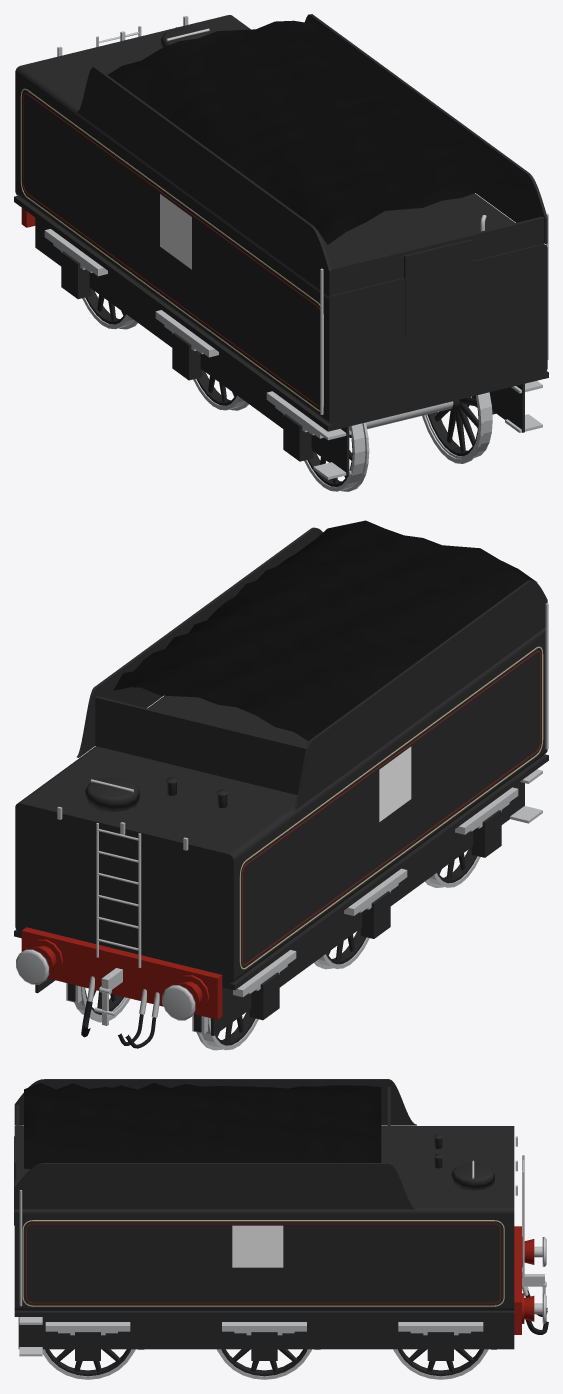
The model's file is tender_lod1.glb.
3 renders of one model, top to bottom at view 1: azimuth 30°, elevation 25°; view 2: azimuth 150°, elevation 25°; view 3: azimuth 270°, elevation 25°, orthographic. The views are drawn at different scales.
Parts seen in each view (by area): view 1: tender_static_paint_black, tender_static_coal, tender_static_steel, ws_t0_steel, ws_t0_wheel, tender_static_decal_emblem, tender_static_lining, tender_static_lining_red, ws_t2_wheel, ws_t1_wheel; view 2: tender_static_paint_black, tender_static_coal, tender_static_steel, tender_static_paint_red, tender_static_decal_emblem, tender_static_lining, tender_static_lining_red, ws_t2_steel, ws_t2_wheel, tender_static_rubber; view 3: tender_static_paint_black, tender_static_coal, tender_static_steel, tender_static_decal_emblem_l, tender_static_lining, tender_static_lining_red, tender_static_paint_red, ws_t2_wheel, ws_t1_wheel, ws_t0_wheel, ws_t1_steel, ws_t2_steel (+1 smaller).
Part boxes in pixels (bbox=[...]): tender_static_paint_black: bbox=[14, 14, 548, 475]; tender_static_coal: bbox=[108, 20, 536, 244]; tender_static_steel: bbox=[16, 15, 548, 479]; ws_t0_steel: bbox=[304, 392, 492, 491]; ws_t0_wheel: bbox=[307, 396, 478, 486]; tender_static_decal_emblem: bbox=[160, 194, 191, 269]; tender_static_lining: bbox=[20, 88, 323, 411]; tender_static_lining_red: bbox=[23, 93, 320, 406]; ws_t2_wheel: bbox=[85, 289, 125, 324]; ws_t1_wheel: bbox=[196, 370, 236, 405]; tender_static_paint_black: bbox=[14, 527, 548, 1035]; tender_static_coal: bbox=[113, 520, 537, 741]; tender_static_steel: bbox=[16, 603, 548, 1033]; tender_static_paint_red: bbox=[21, 927, 222, 1019]; tender_static_decal_emblem: bbox=[379, 746, 411, 821]; tender_static_lining: bbox=[239, 646, 543, 969]; tender_static_lining_red: bbox=[242, 651, 540, 964]; ws_t2_steel: bbox=[74, 986, 258, 1050]; ws_t2_wheel: bbox=[84, 987, 255, 1045]; tender_static_rubber: bbox=[81, 1001, 156, 1048]; tender_static_paint_black: bbox=[14, 1079, 514, 1360]; tender_static_coal: bbox=[24, 1082, 381, 1169]; tender_static_steel: bbox=[19, 1125, 546, 1356]; tender_static_decal_emblem_l: bbox=[232, 1225, 283, 1267]; tender_static_lining: bbox=[22, 1220, 504, 1306]; tender_static_lining_red: bbox=[26, 1223, 500, 1303]; tender_static_paint_red: bbox=[514, 1226, 534, 1334]; ws_t2_wheel: bbox=[398, 1349, 483, 1376]; ws_t1_wheel: bbox=[221, 1349, 307, 1376]; ws_t0_wheel: bbox=[45, 1349, 130, 1376]; ws_t1_steel: bbox=[217, 1349, 311, 1379]; ws_t2_steel: bbox=[393, 1349, 488, 1379].
Bounding box in the file's own units: 2.71 × 3.5 × 6.93.
